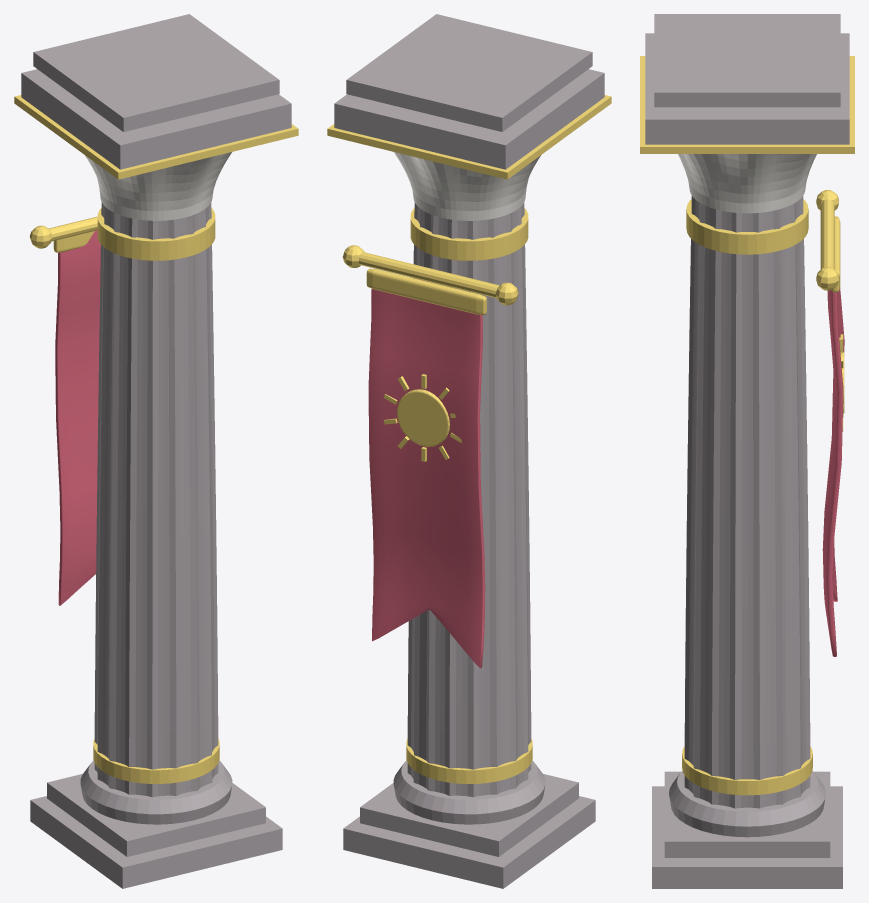
File: SandColumn.glb
3 renders of one model, left to right at view 1: azimuth 30°, elevation 25°; view 2: azimuth 150°, elevation 25°; view 3: azimuth 270°, elevation 25°, orthographic. The views are drawn at different scales.
Parts seen in each view (by area): view 1: Stone, Cloth, Gold, Paint; view 2: Stone, Cloth, Gold, Paint; view 3: Stone, Gold, Paint, Cloth.
Part boxes in pixels (bbox=[...]): Stone: bbox=[21, 14, 291, 888]; Cloth: bbox=[55, 230, 100, 605]; Gold: bbox=[14, 95, 298, 783]; Paint: bbox=[85, 152, 231, 220]; Stone: bbox=[334, 14, 604, 888]; Cloth: bbox=[368, 280, 485, 668]; Gold: bbox=[327, 95, 611, 783]; Paint: bbox=[394, 152, 540, 220]; Stone: bbox=[645, 14, 849, 888]; Gold: bbox=[640, 56, 854, 795]; Paint: bbox=[678, 154, 816, 213]; Cloth: bbox=[822, 288, 844, 656].
Bounding box in the file's own units: 6.83 × 27.89 × 6.83.
